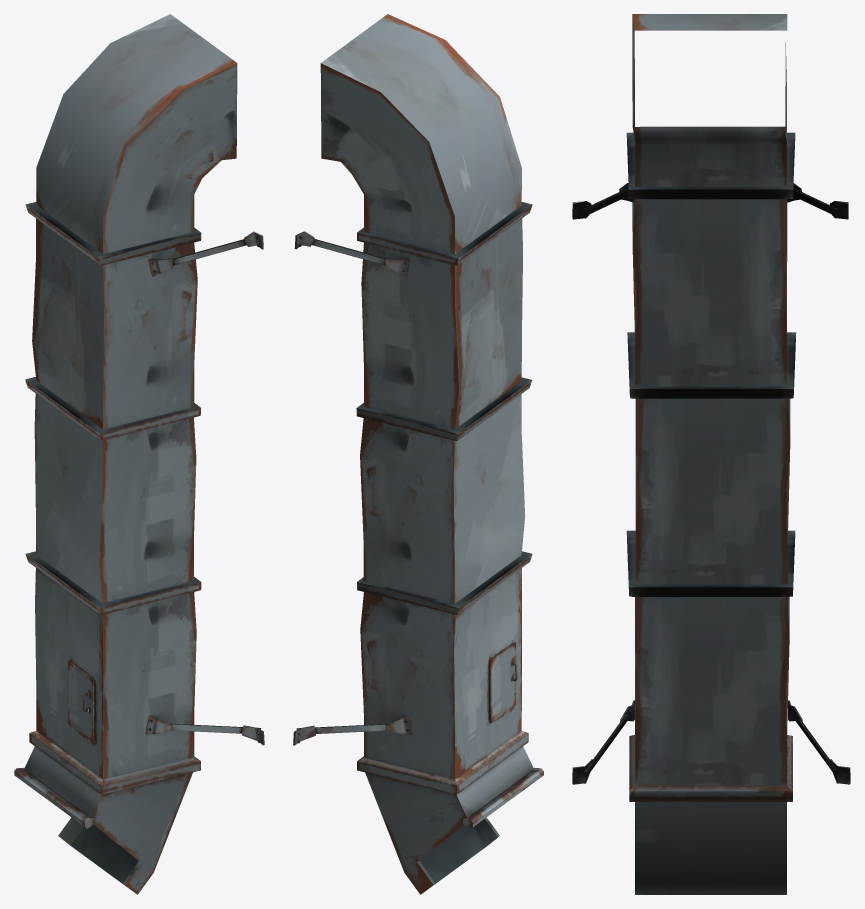
The picture shows the model from 3 angles, left to right: view 1: azimuth 30°, elevation 25°; view 2: azimuth 150°, elevation 25°; view 3: azimuth 270°, elevation 25°; orthographic projection. The views are drawn at different scales.
Parts seen in each view (by area): view 1: body0_model0_lod0_mesh0; view 2: body0_model0_lod0_mesh0; view 3: body0_model0_lod0_mesh0.
Boxes of the visible parts, bbox=[...] form: body0_model0_lod0_mesh0: bbox=[14, 14, 264, 894]; body0_model0_lod0_mesh0: bbox=[293, 14, 543, 894]; body0_model0_lod0_mesh0: bbox=[572, 14, 850, 894].
Size of the model in its own units: 91.82 by 452 by 124.
1 material, 1 textured.
